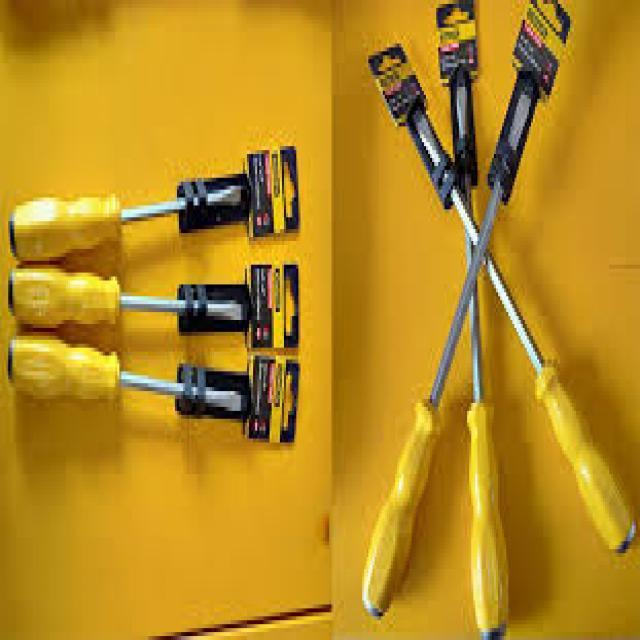screwdriver: (410, 98, 636, 558), (360, 65, 535, 626), (450, 71, 510, 640), (7, 336, 246, 434), (8, 174, 249, 265), (8, 266, 249, 334)
